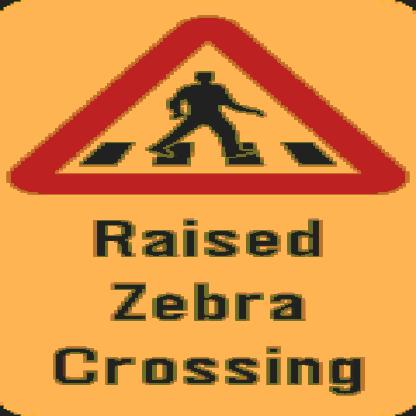Pedestrian Crossing: (21, 15, 400, 210)
